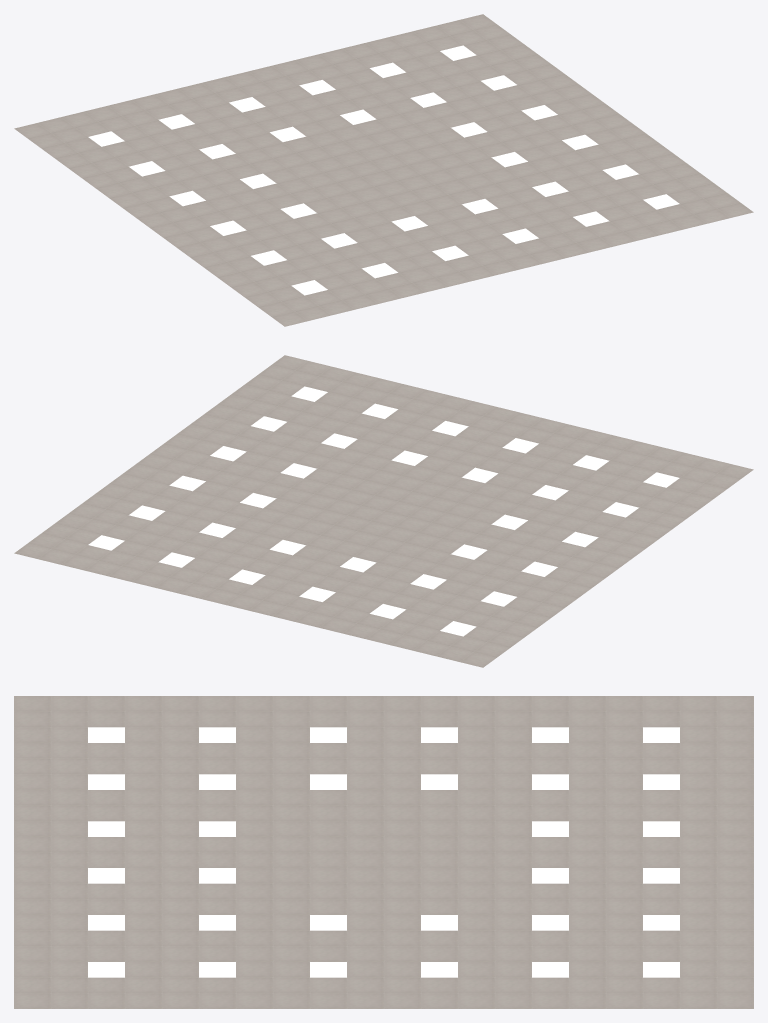
File: ceiling.glb
The picture shows the model from 3 angles, top to bottom: view 1: azimuth 30°, elevation 25°; view 2: azimuth 150°, elevation 25°; view 3: azimuth 270°, elevation 25°; orthographic projection. The views are drawn at different scales.
Visible parts, largest first — view 1: ceiling-col; view 2: ceiling-col; view 3: ceiling-col.
Part boxes in pixels (x1,y1,x2,y2): ceiling-col: [14, 14, 753, 326]; ceiling-col: [14, 355, 753, 667]; ceiling-col: [14, 696, 753, 1008].
Bounding box in the file's own units: 20 × 1.75e-06 × 20.
2 materials, 1 textured.
